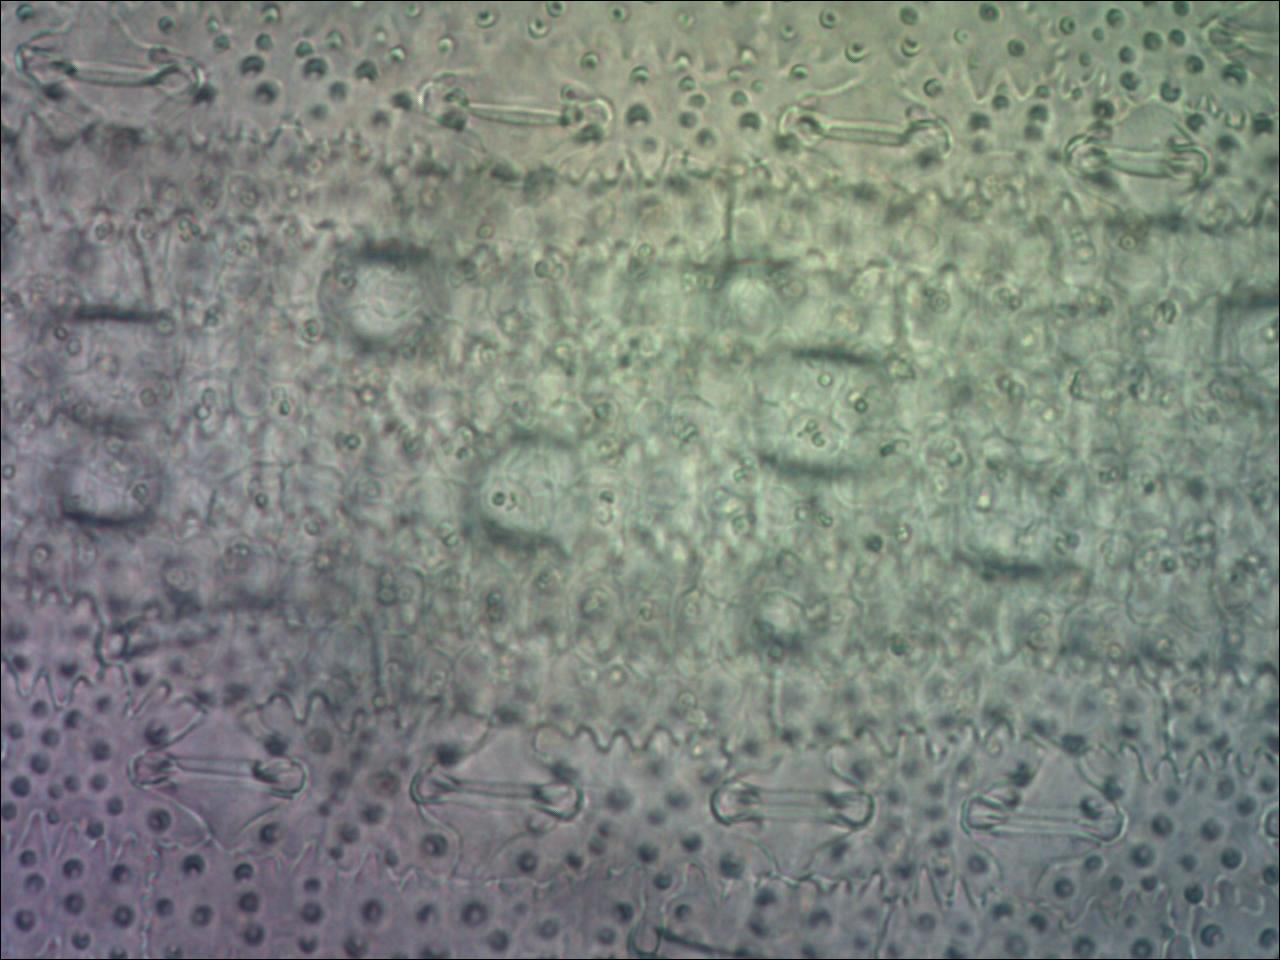stoma: (137, 696, 308, 851), (408, 726, 592, 861), (423, 40, 614, 167), (962, 751, 1138, 878), (707, 748, 873, 878), (21, 14, 203, 130), (780, 74, 948, 190), (1067, 93, 1214, 220), (1194, 1, 1280, 90)
